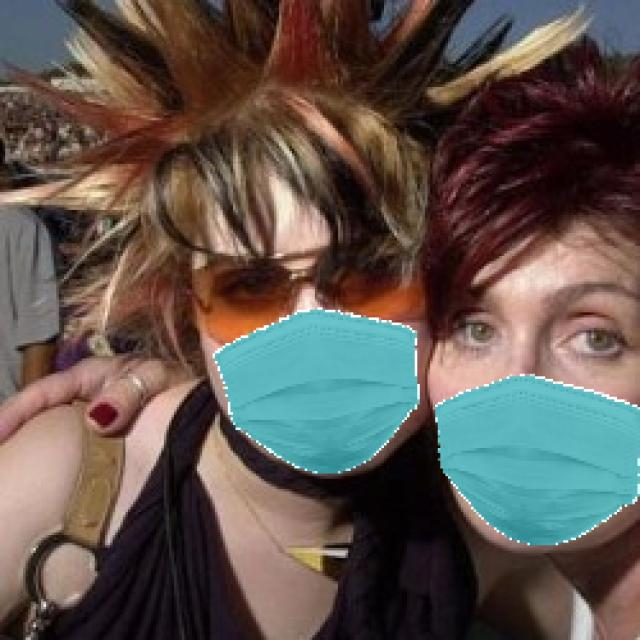mask: (163, 292, 436, 503), (417, 381, 640, 554)
